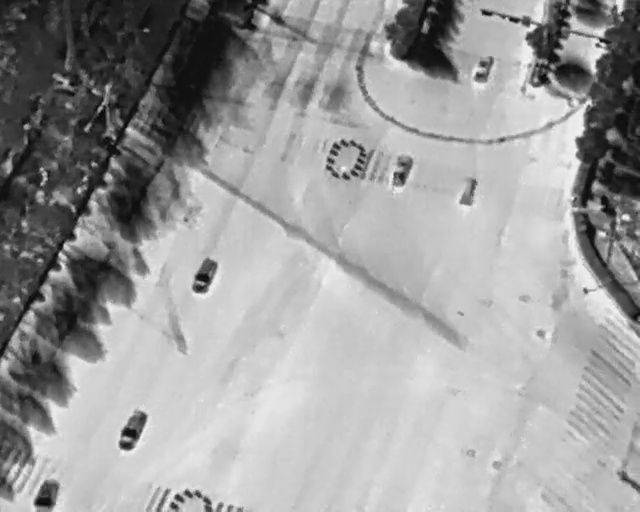Car: (114, 406, 149, 455), (188, 256, 219, 296), (34, 477, 60, 510), (390, 153, 414, 188), (471, 52, 495, 83), (456, 175, 478, 207)
